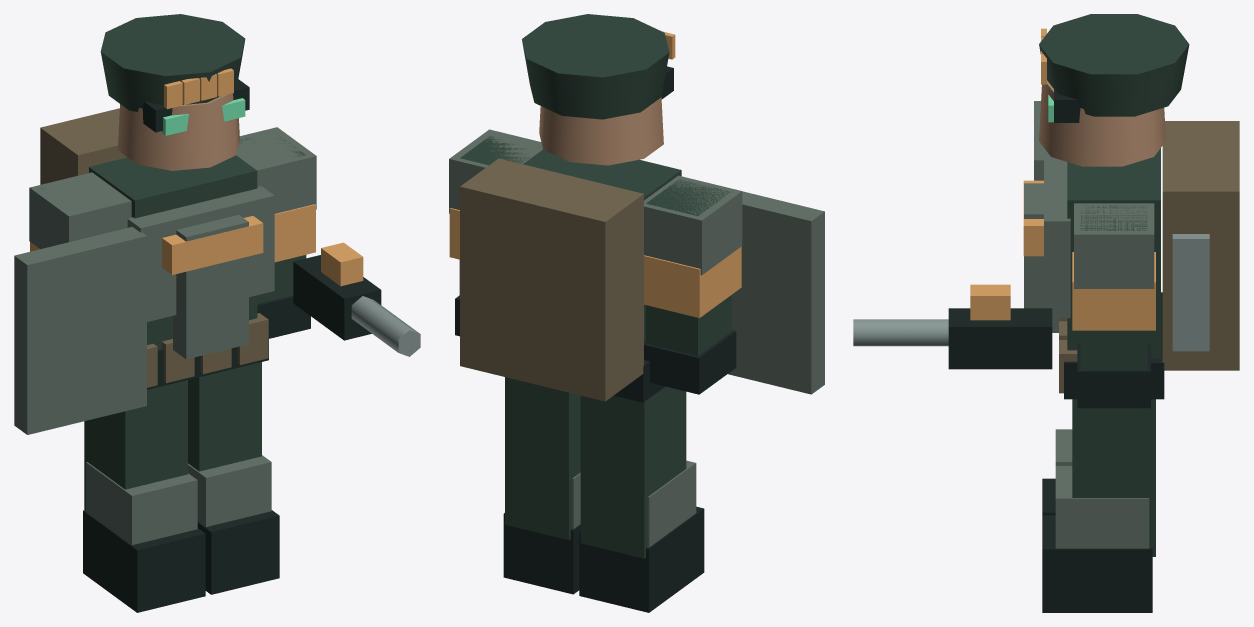
File: assault_l04.glb
3 renders of one model, left to right at view 1: azimuth 30°, elevation 25°; view 2: azimuth 150°, elevation 25°; view 3: azimuth 270°, elevation 25°, orthographic. The views are drawn at different scales.
Visible parts, largest first — view 1: forearm_shield, trouser (×2), boot (×2), knee_plate (×2), shoulder_plate (×2), helmet, front_plate, vest, body, face, field_pack, carbine_body (+12 smaller); view 2: field_pack, trouser (×2), forearm_shield, helmet, boot (×2), shoulder_plate (×2), sleeve (×2), face, rank_stripe (×2), glove, body, knee_plate (+1 smaller); view 3: field_pack, helmet, boot (×2), trouser, shoulder_plate, knee_plate (×2), face, carbine_body, body, spare_magazine, vest, sleeve (+9 smaller).
Boxes of the visible parts, left/top/right/bottom form: forearm_shield: left=14, top=227, right=146, bottom=434; trouser (×2): left=84, top=362, right=261, bottom=510; boot (×2): left=83, top=510, right=279, bottom=612; knee_plate (×2): left=86, top=455, right=271, bottom=544; shoulder_plate (×2): left=29, top=127, right=316, bottom=248; helmet: left=100, top=14, right=245, bottom=111; front_plate: left=173, top=215, right=248, bottom=359; vest: left=127, top=186, right=274, bottom=321; body: left=89, top=155, right=257, bottom=349; face: left=117, top=93, right=239, bottom=170; field_pack: left=40, top=108, right=127, bottom=184; carbine_body: left=293, top=255, right=381, bottom=340; field_pack: left=460, top=158, right=643, bottom=401; trouser (×2): left=505, top=377, right=686, bottom=558; forearm_shield: left=728, top=191, right=824, bottom=394; helmet: left=522, top=14, right=669, bottom=119; boot (×2): left=503, top=506, right=704, bottom=612; shoulder_plate (×2): left=449, top=129, right=742, bottom=275; sleeve (×2): left=459, top=136, right=731, bottom=356; face: left=539, top=97, right=663, bottom=165; rank_stripe (×2): left=449, top=208, right=741, bottom=317; glove: left=644, top=330, right=736, bottom=394; body: left=523, top=149, right=681, bottom=341; knee_plate: left=647, top=460, right=696, bottom=547; field_pack: left=1162, top=121, right=1239, bottom=370; helmet: left=1039, top=14, right=1189, bottom=116; boot (×2): left=1042, top=478, right=1152, bottom=612; trouser: left=1072, top=399, right=1155, bottom=556; shoulder_plate: left=1074, top=203, right=1154, bottom=288; knee_plate (×2): left=1055, top=429, right=1149, bottom=548; face: left=1039, top=80, right=1165, bottom=166; carbine_body: left=948, top=308, right=1052, bottom=369; body: left=1067, top=148, right=1160, bottom=357; spare_magazine: left=1172, top=234, right=1209, bottom=351; vest: left=1044, top=155, right=1070, bottom=318; sleeve: left=1080, top=205, right=1147, bottom=370.
Size of the model in its own units: 1.09 by 1.76 by 1.16.
